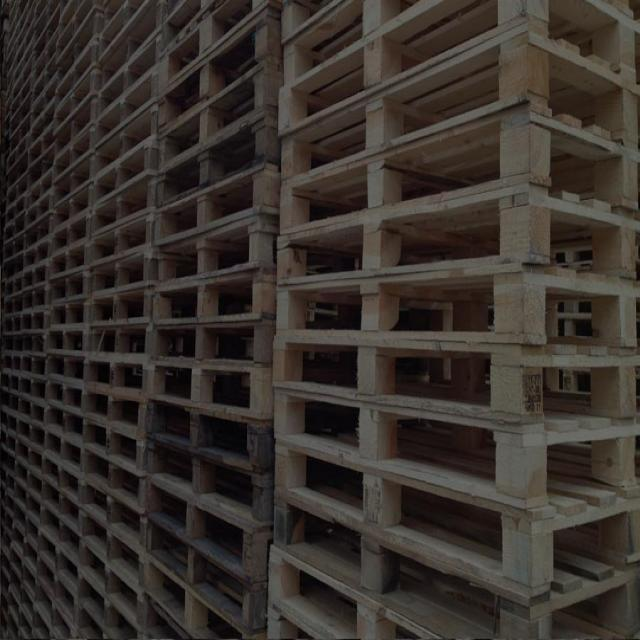green waste: (5, 11, 634, 629)
